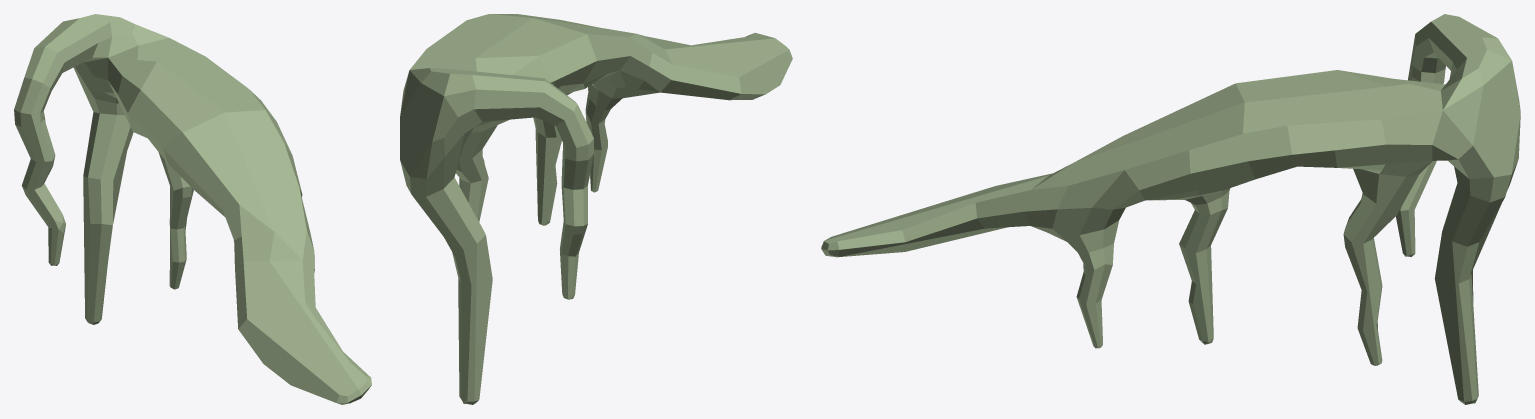
File: EA_Swamp_Liana_01b.glb
3 renders of one model, left to right at view 1: azimuth 30°, elevation 25°; view 2: azimuth 150°, elevation 25°; view 3: azimuth 270°, elevation 25°, orthographic. The views are drawn at different scales.
Parts seen in each view (by area): view 1: EA_Swamp_Liana_01b; view 2: EA_Swamp_Liana_01b; view 3: EA_Swamp_Liana_01b.
Boxes of the visible parts, left/top/right/bottom form: EA_Swamp_Liana_01b: left=14, top=14, right=371, bottom=404; EA_Swamp_Liana_01b: left=400, top=14, right=792, bottom=404; EA_Swamp_Liana_01b: left=821, top=14, right=1520, bottom=404.
Bounding box in the file's own units: 1.9 × 2.95 × 5.17.
1 material, 1 textured.
